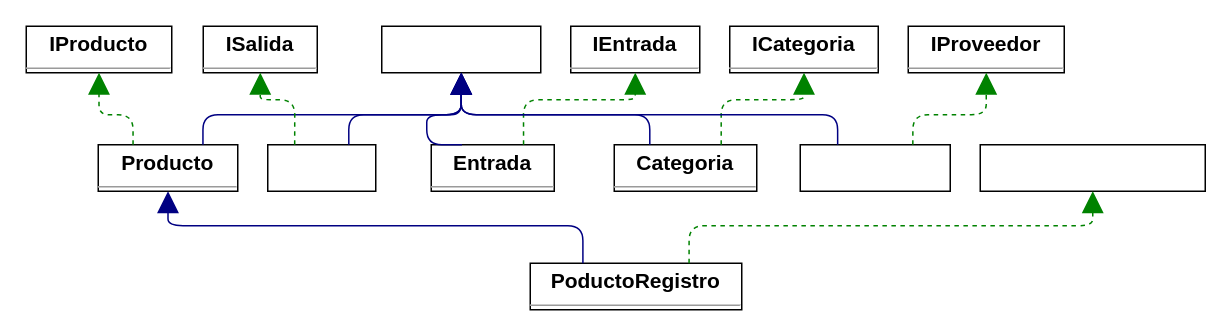
Some shapes in this 1232 by 336 pixel diagram are drawn without their labels. Here are the shapes that lost their labels. From the top down, the centre of each, then its label:
point 460,49: CONEXION
point 321,167: Salida
point 874,167: Proveedor
point 1092,167: IRegistroProducto
